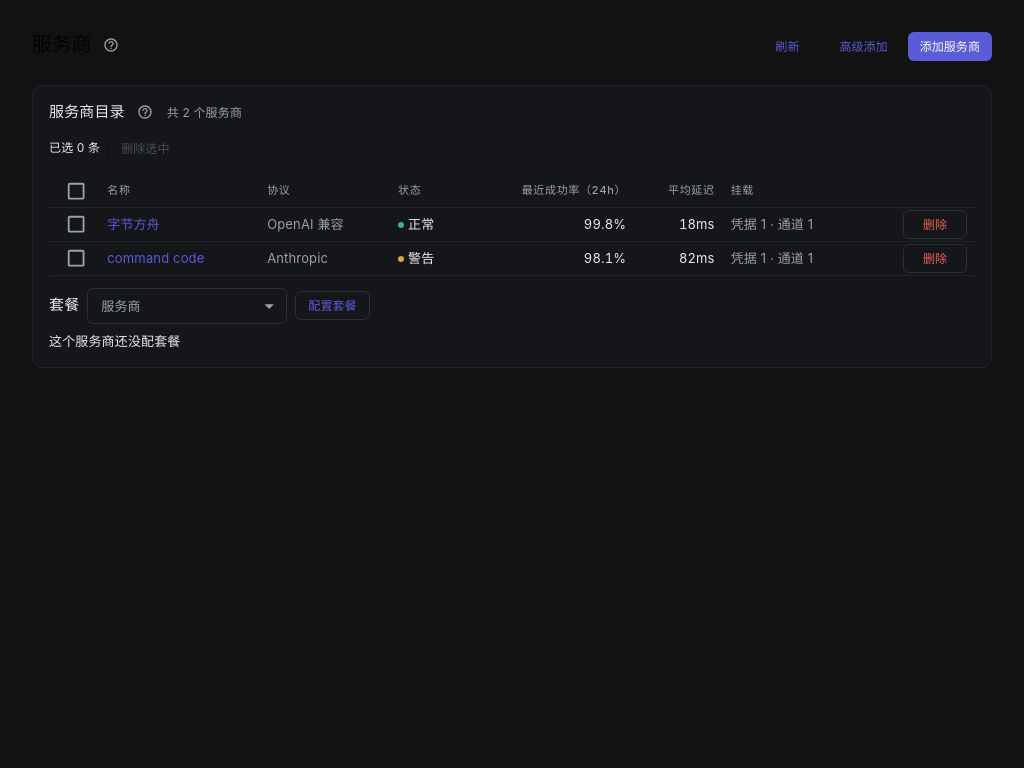
pw-test：先真落库（并说出来），再真调 provider_test › 还没落库时点 pw-test：provider_upsert → credential_upsert → credential_set_secret，并显示 pw-saved-notice
The image size is (1024, 768).
Expected: the text "字节方舟" is shown, [107,216,160,232]
Click the button with test id "providers-add-open": click(950, 47) [908,32,992,61]
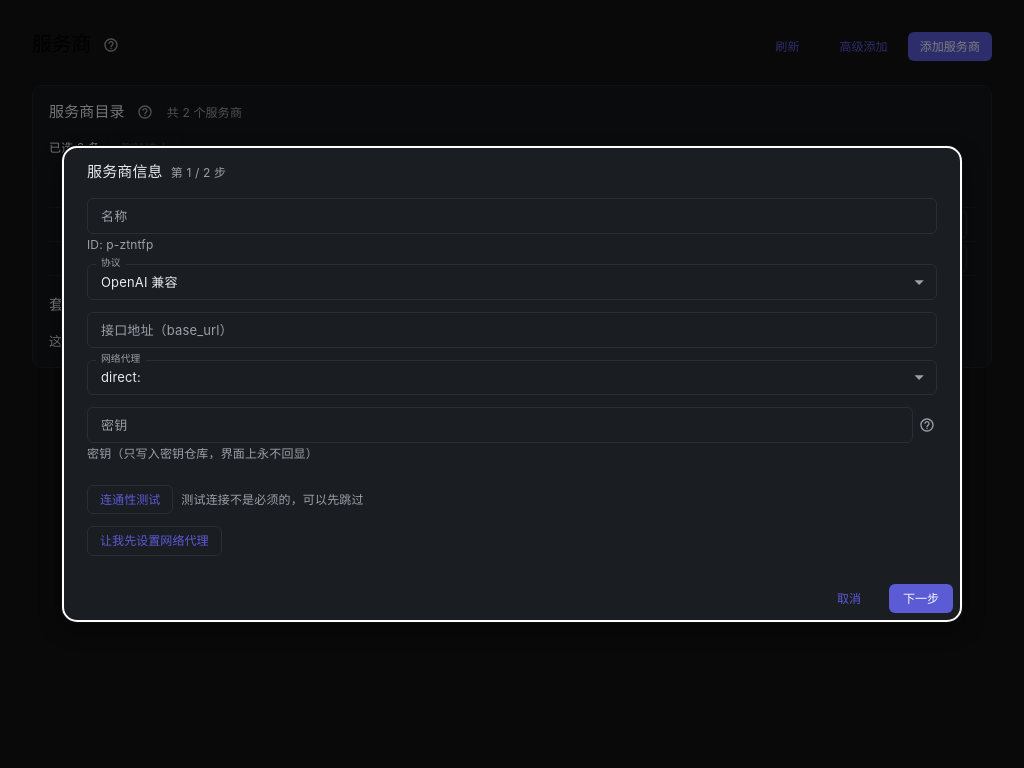
Expected: the element with test id "provider-wizard-step1" is shown, [87,198,937,556]
In the field labelled "名称": (512, 216) [87,198,937,234], type "My Gateway"
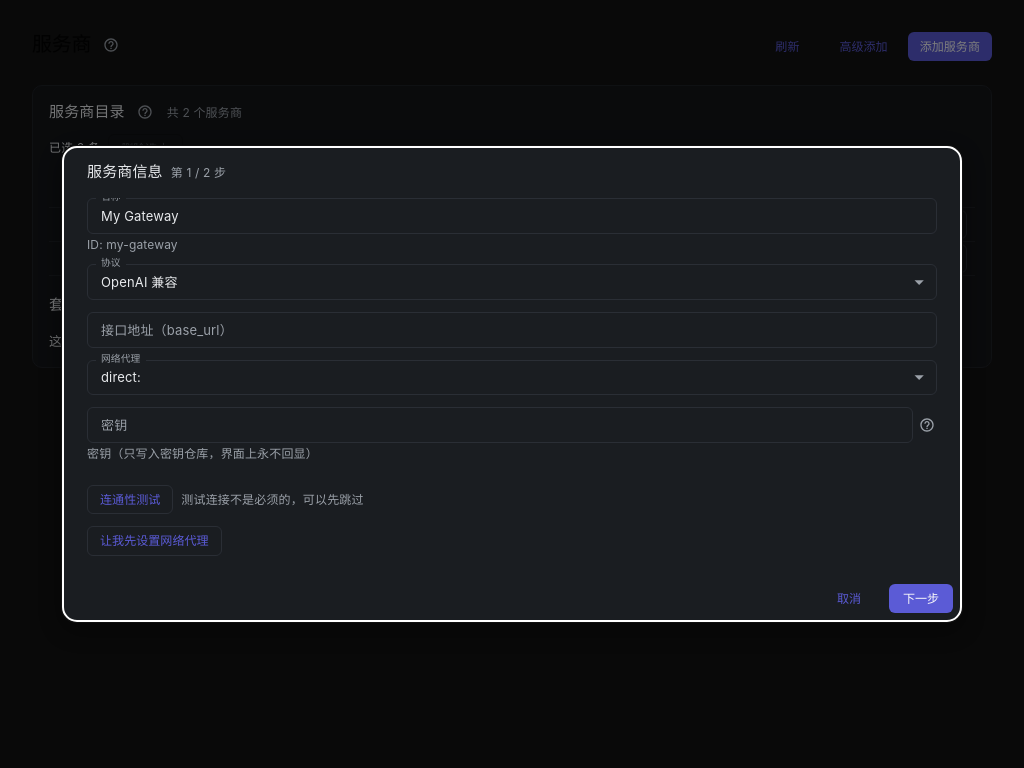
In the field labelled "接口地址（base_url）": (512, 330) [87,312,937,348], type "https://gw.example.com/v1"
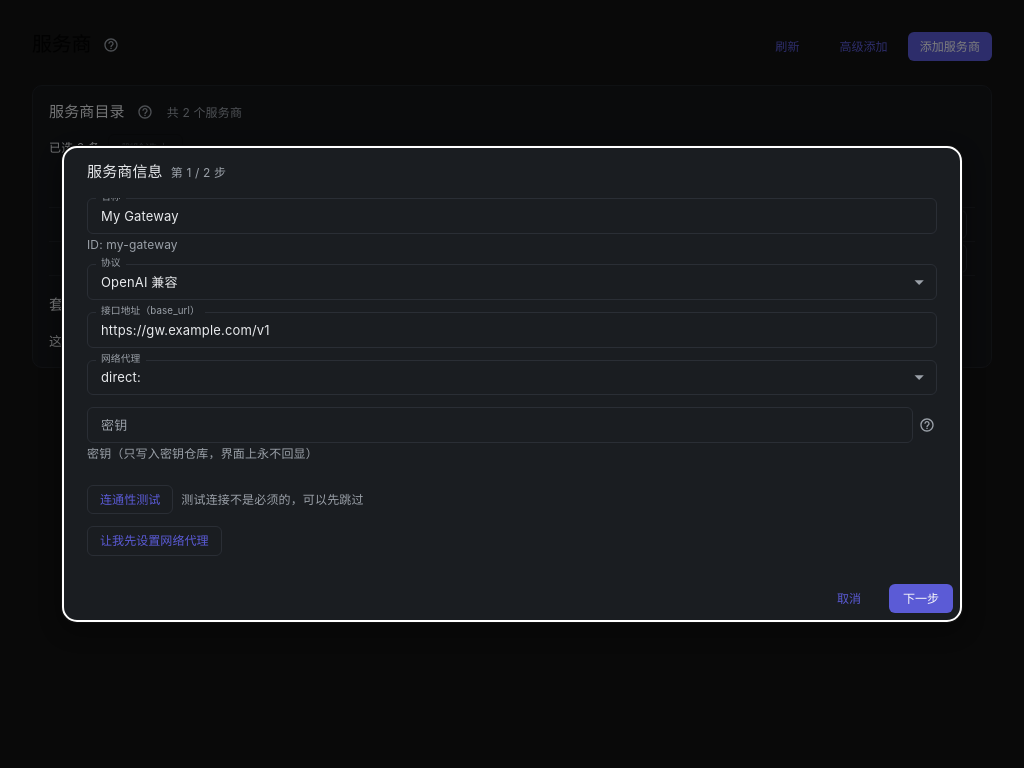
In the password field labelled "密钥": (500, 425) [87,407,913,443], type "sk-plaintext-canary-0001"
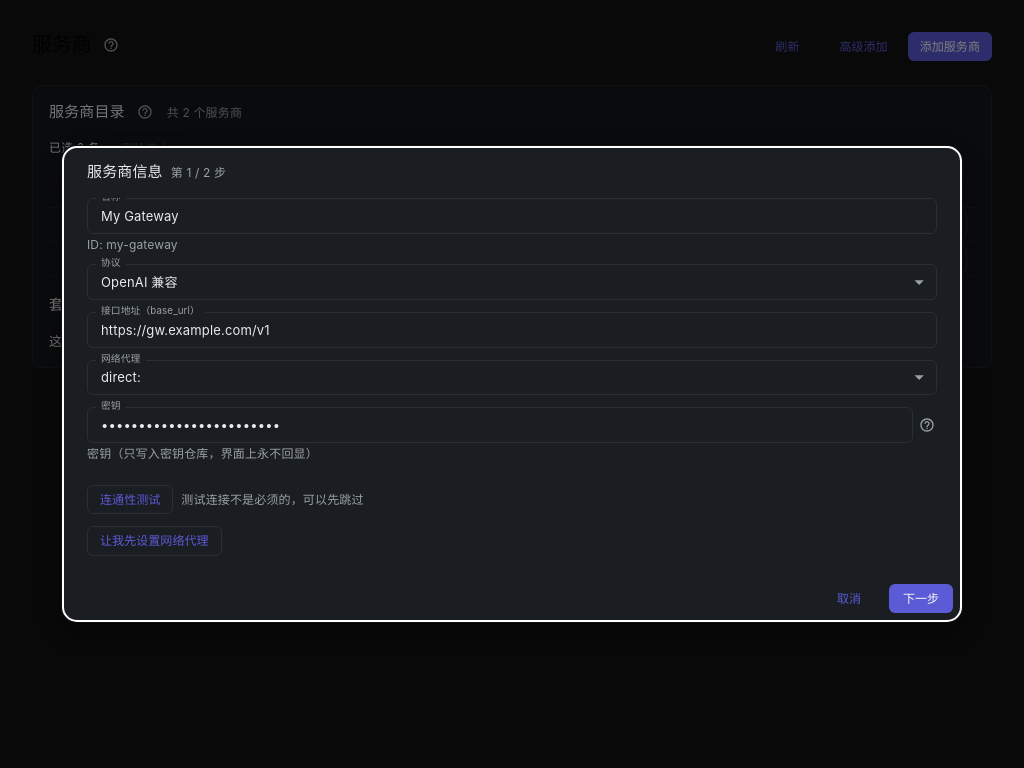
Click the button with test id "pw-test": click(130, 500) [87,485,173,514]
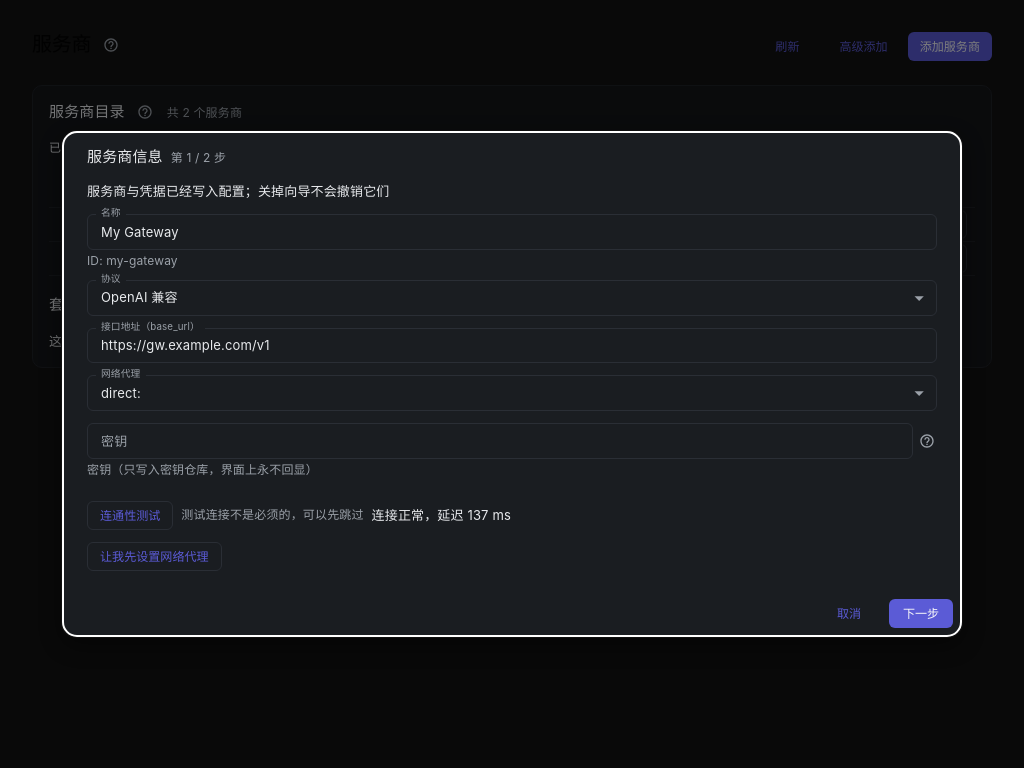
Expected: the text with test id "pw-test-result" shows "137", [372,507,511,523]
Expected: the text with test id "pw-saved-notice" shows "关掉向导不会撤销", [87,183,390,199]
